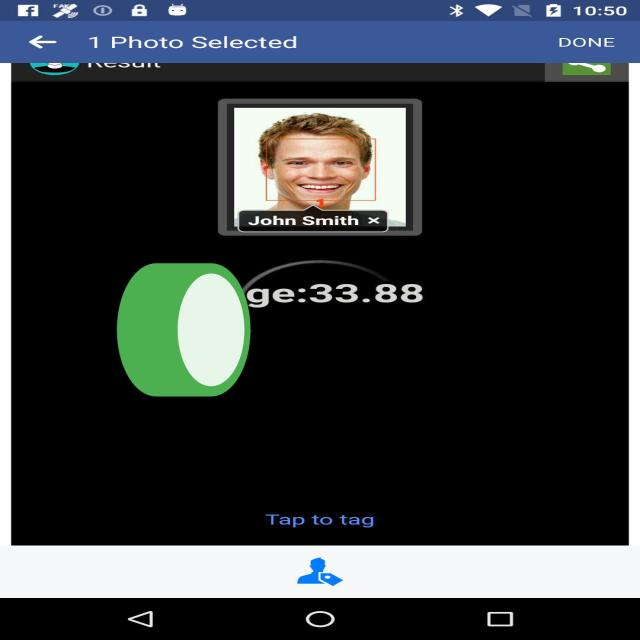social proof: (110, 212, 256, 458)
